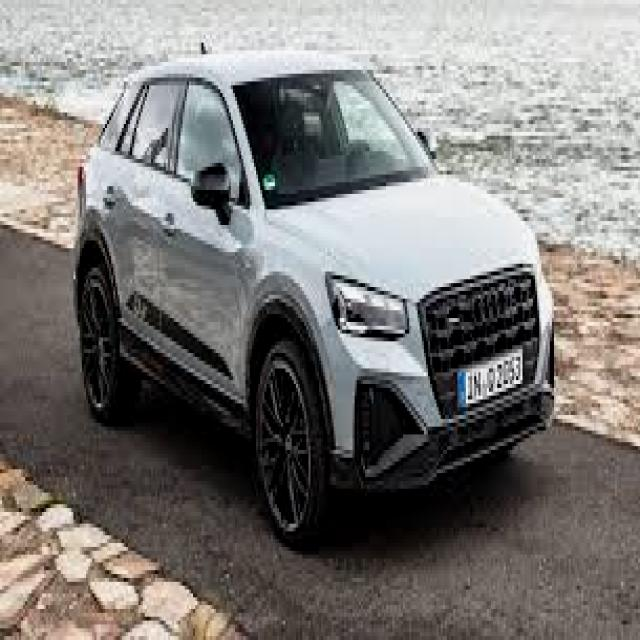SUV: (75, 50, 558, 540)
